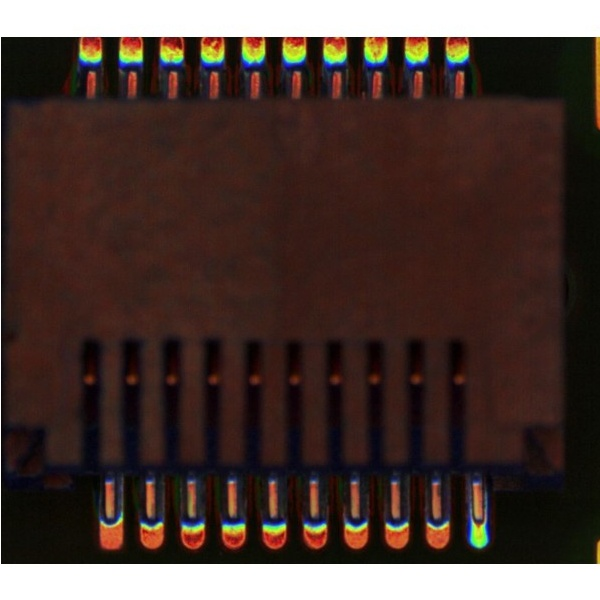Bad_qiaojiao: (467, 484, 472, 517), (483, 481, 487, 519)
